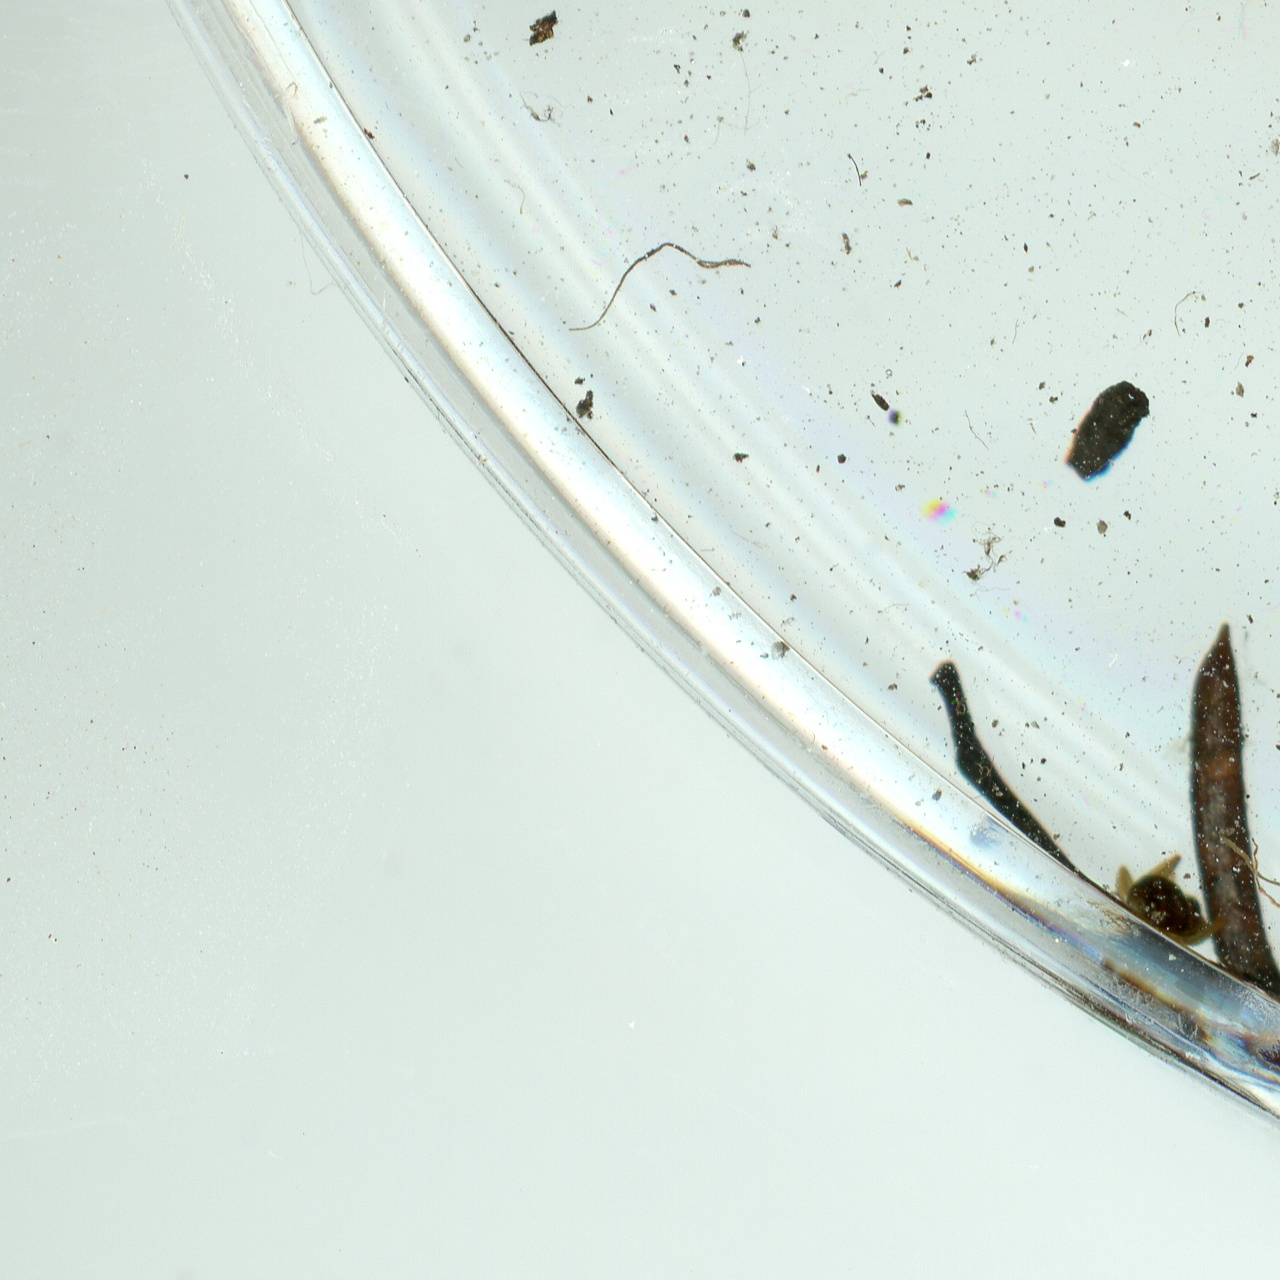arthropod: (1110, 856, 1232, 945)
